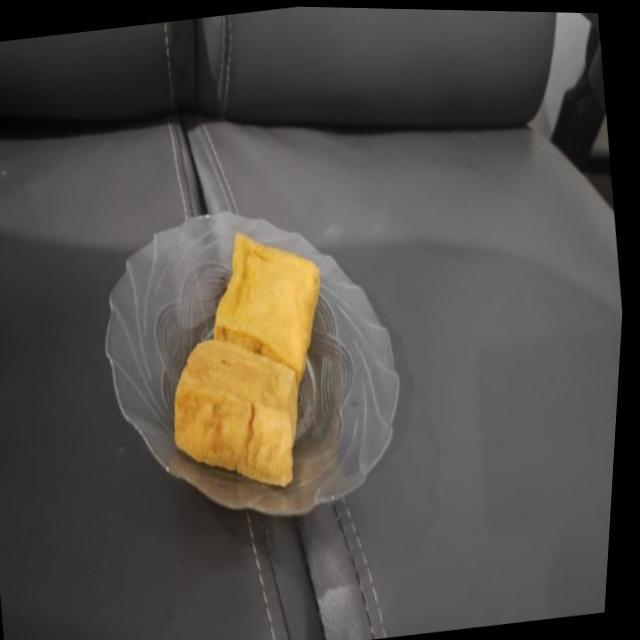tahu_goreng: (175, 337, 298, 486), (214, 233, 320, 384)
